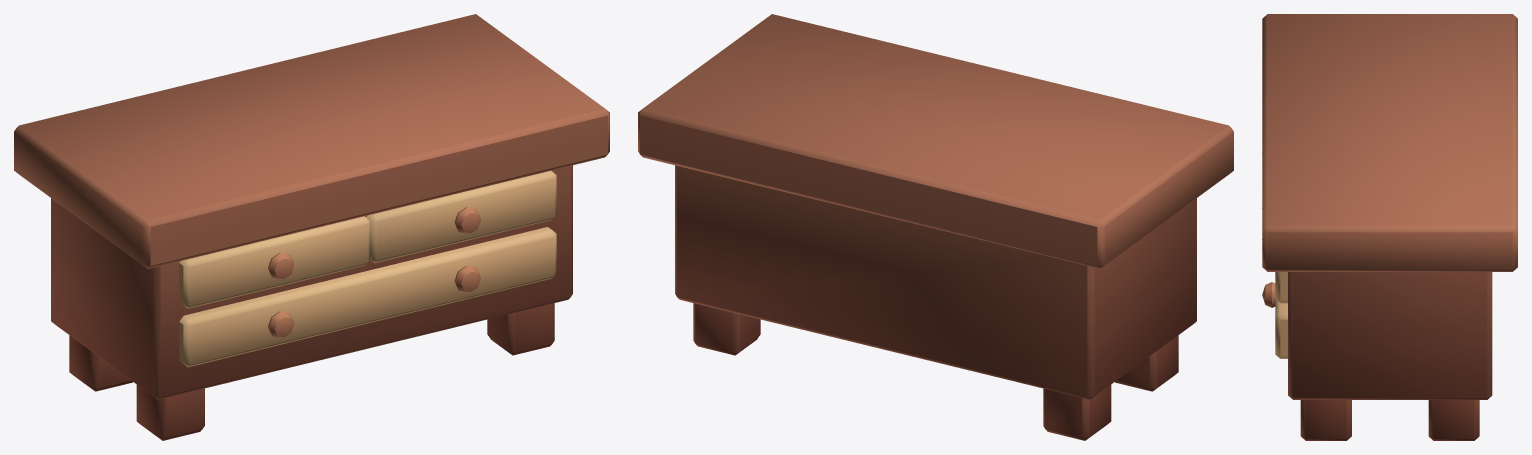
The model's file is tv-stand.glb.
3 views of the same model, side by side, from view 1: azimuth 30°, elevation 25°; view 2: azimuth 150°, elevation 25°; view 3: azimuth 270°, elevation 25° (orthographic). The views are drawn at different scales.
Parts seen in each view (by area): view 1: cabinet_medium; view 2: cabinet_medium; view 3: cabinet_medium.
Boxes of the visible parts, x1,y1,x2,y2 form: cabinet_medium: (14, 14, 609, 440); cabinet_medium: (638, 14, 1233, 440); cabinet_medium: (1262, 14, 1517, 440).
Size of the model in its own units: 2 by 1 by 1.
1 material, 1 textured.
